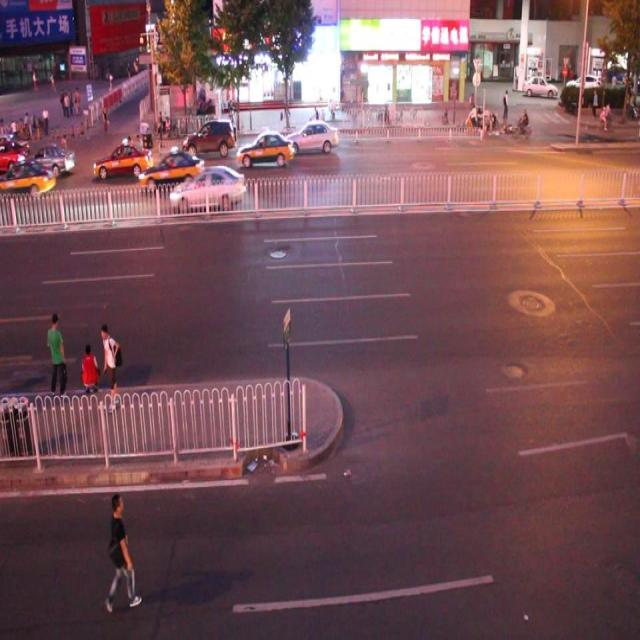car: (169, 167, 244, 210), (140, 152, 206, 188), (1, 160, 56, 200), (237, 130, 292, 168), (94, 143, 153, 178), (182, 118, 236, 156), (284, 118, 337, 156), (28, 143, 76, 177), (1, 134, 28, 171)
